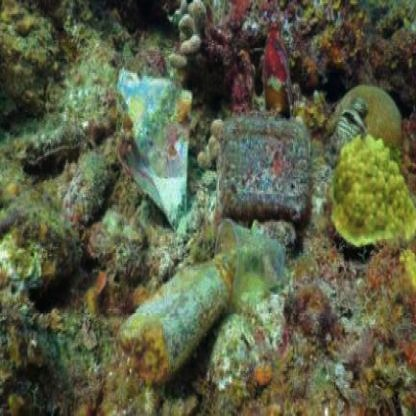gbottle: (100, 238, 241, 370)
misc: (214, 108, 336, 244)
plastic: (215, 208, 290, 310)
